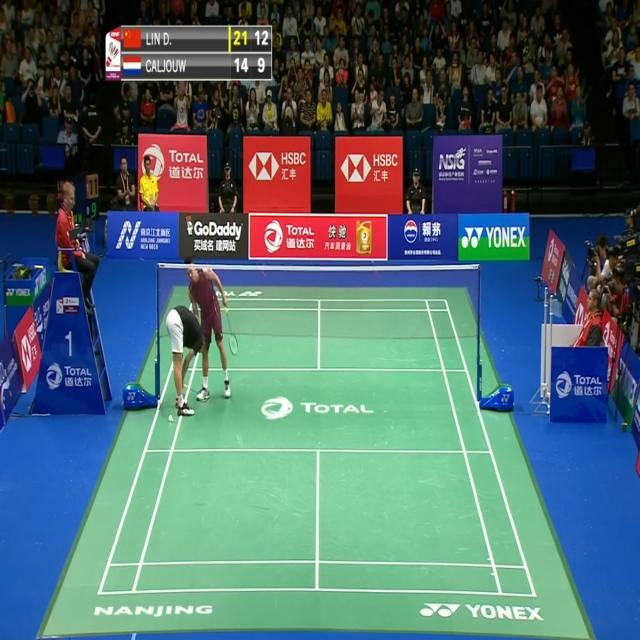Player1: (163, 302, 215, 428)
Player2: (180, 250, 240, 405)
